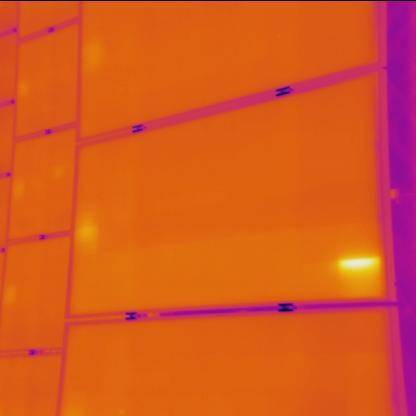hotspot: (335, 256, 389, 298)
